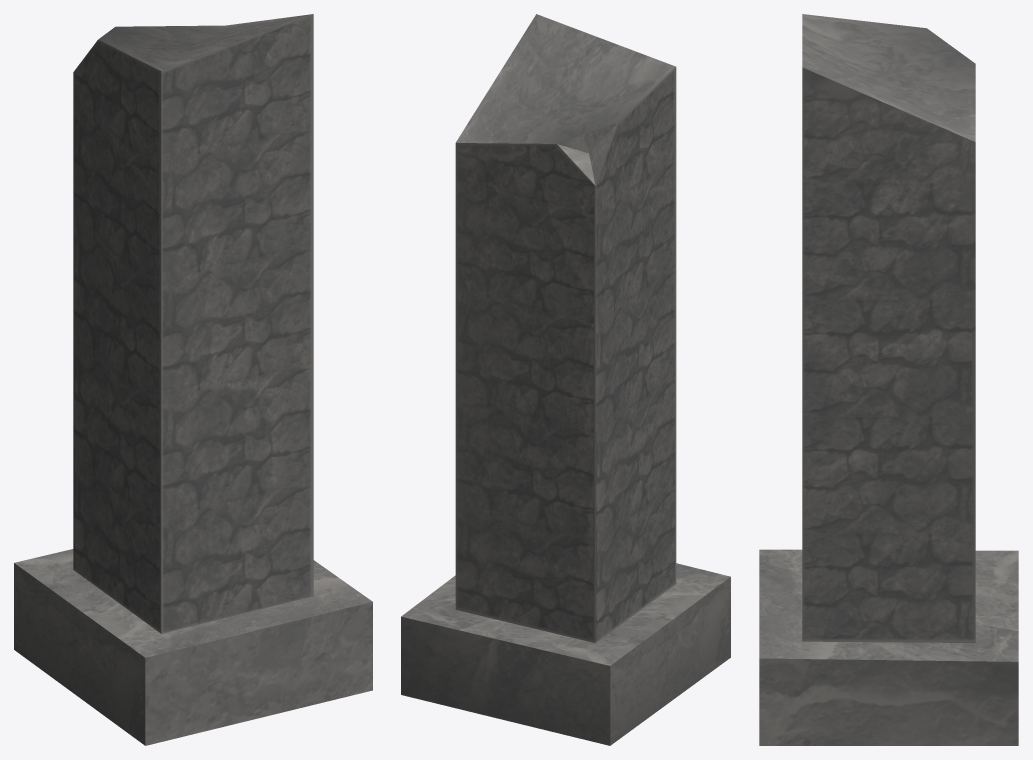
File: column.fbx
3 renders of one model, left to right at view 1: azimuth 30°, elevation 25°; view 2: azimuth 150°, elevation 25°; view 3: azimuth 270°, elevation 25°, orthographic. The views are drawn at different scales.
Visible parts, largest first — view 1: Box001; view 2: Box001; view 3: Box001.
Boxes of the visible parts, x1=… form: Box001: x1=14, y1=14, x2=372, y2=745; Box001: x1=401, y1=14, x2=730, y2=745; Box001: x1=759, y1=14, x2=1018, y2=745.
Bounding box in the file's own units: 55 × 155 × 55.
Materials: 1 (1 with a texture image).
